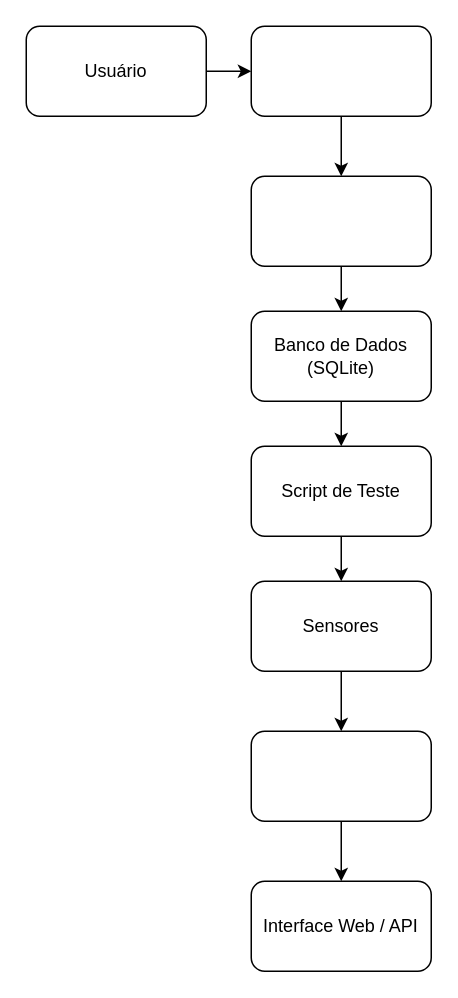
The diagram is 458 pixels wide and 998 high, and some of its shapes have lost their labels. The shapes that lost their labels are listed below. From the top down, each one's box as (x1, y1, x2, y2) in pixels, then its label:
(250, 25, 431, 116): Interface Web
(250, 175, 431, 266): Controller (Flask)
(250, 730, 431, 821): Veredito de testes
